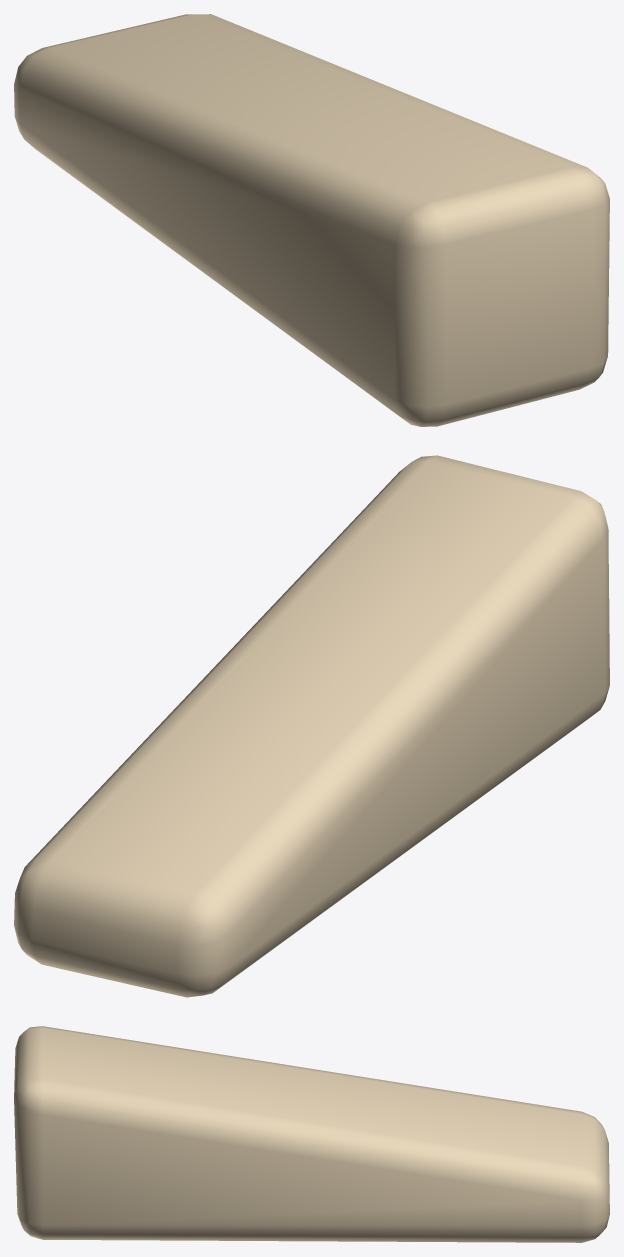
Rendered from BORD_UEBERGANG.glb.
The picture shows the model from 3 angles, top to bottom: view 1: azimuth 30°, elevation 25°; view 2: azimuth 150°, elevation 25°; view 3: azimuth 270°, elevation 25°; orthographic projection. The views are drawn at different scales.
Visible parts, largest first — view 1: BORD_UEBERGANG; view 2: BORD_UEBERGANG; view 3: BORD_UEBERGANG.
Part boxes in pixels (x1,y1,x2,y2): BORD_UEBERGANG: (14,14,609,426); BORD_UEBERGANG: (14,455,609,997); BORD_UEBERGANG: (14,1026,609,1242).
Bounding box in the file's own units: 0.4526 × 0.4662 × 1.55.
